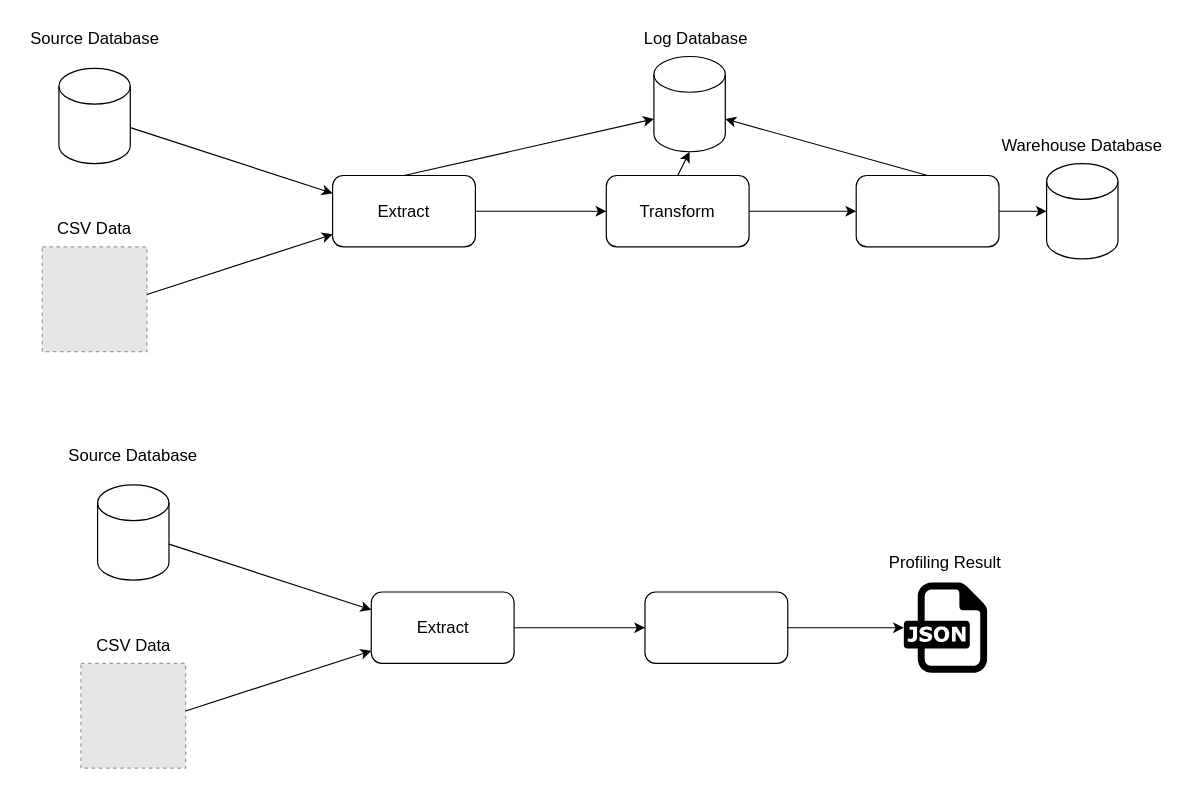
Some shapes in this 1192 by 789 pixel diagram are drawn without their labels. Grey dashed boxes stand in for pictures. Here are the shapes that lost their labels. From the top down, the centre of each, then its label:
At pixel 927 210: "Load".
At pixel 716 627: "Profiling".
